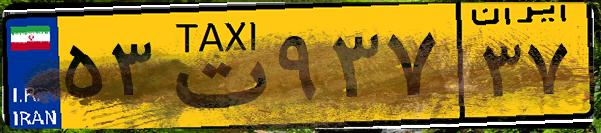3: (330, 28, 385, 110), (475, 38, 525, 113), (110, 28, 158, 98)
5: (57, 26, 110, 100)
7: (385, 28, 445, 110), (525, 38, 570, 115)
9: (270, 28, 330, 110)
ت: (158, 12, 270, 120)
